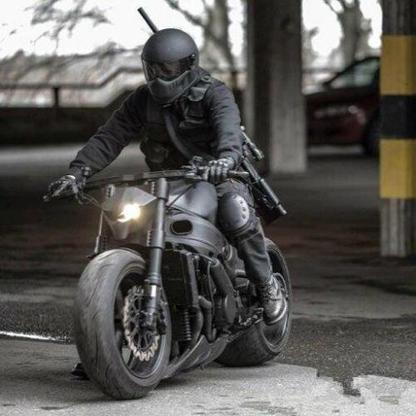target: (42, 29, 305, 400)
